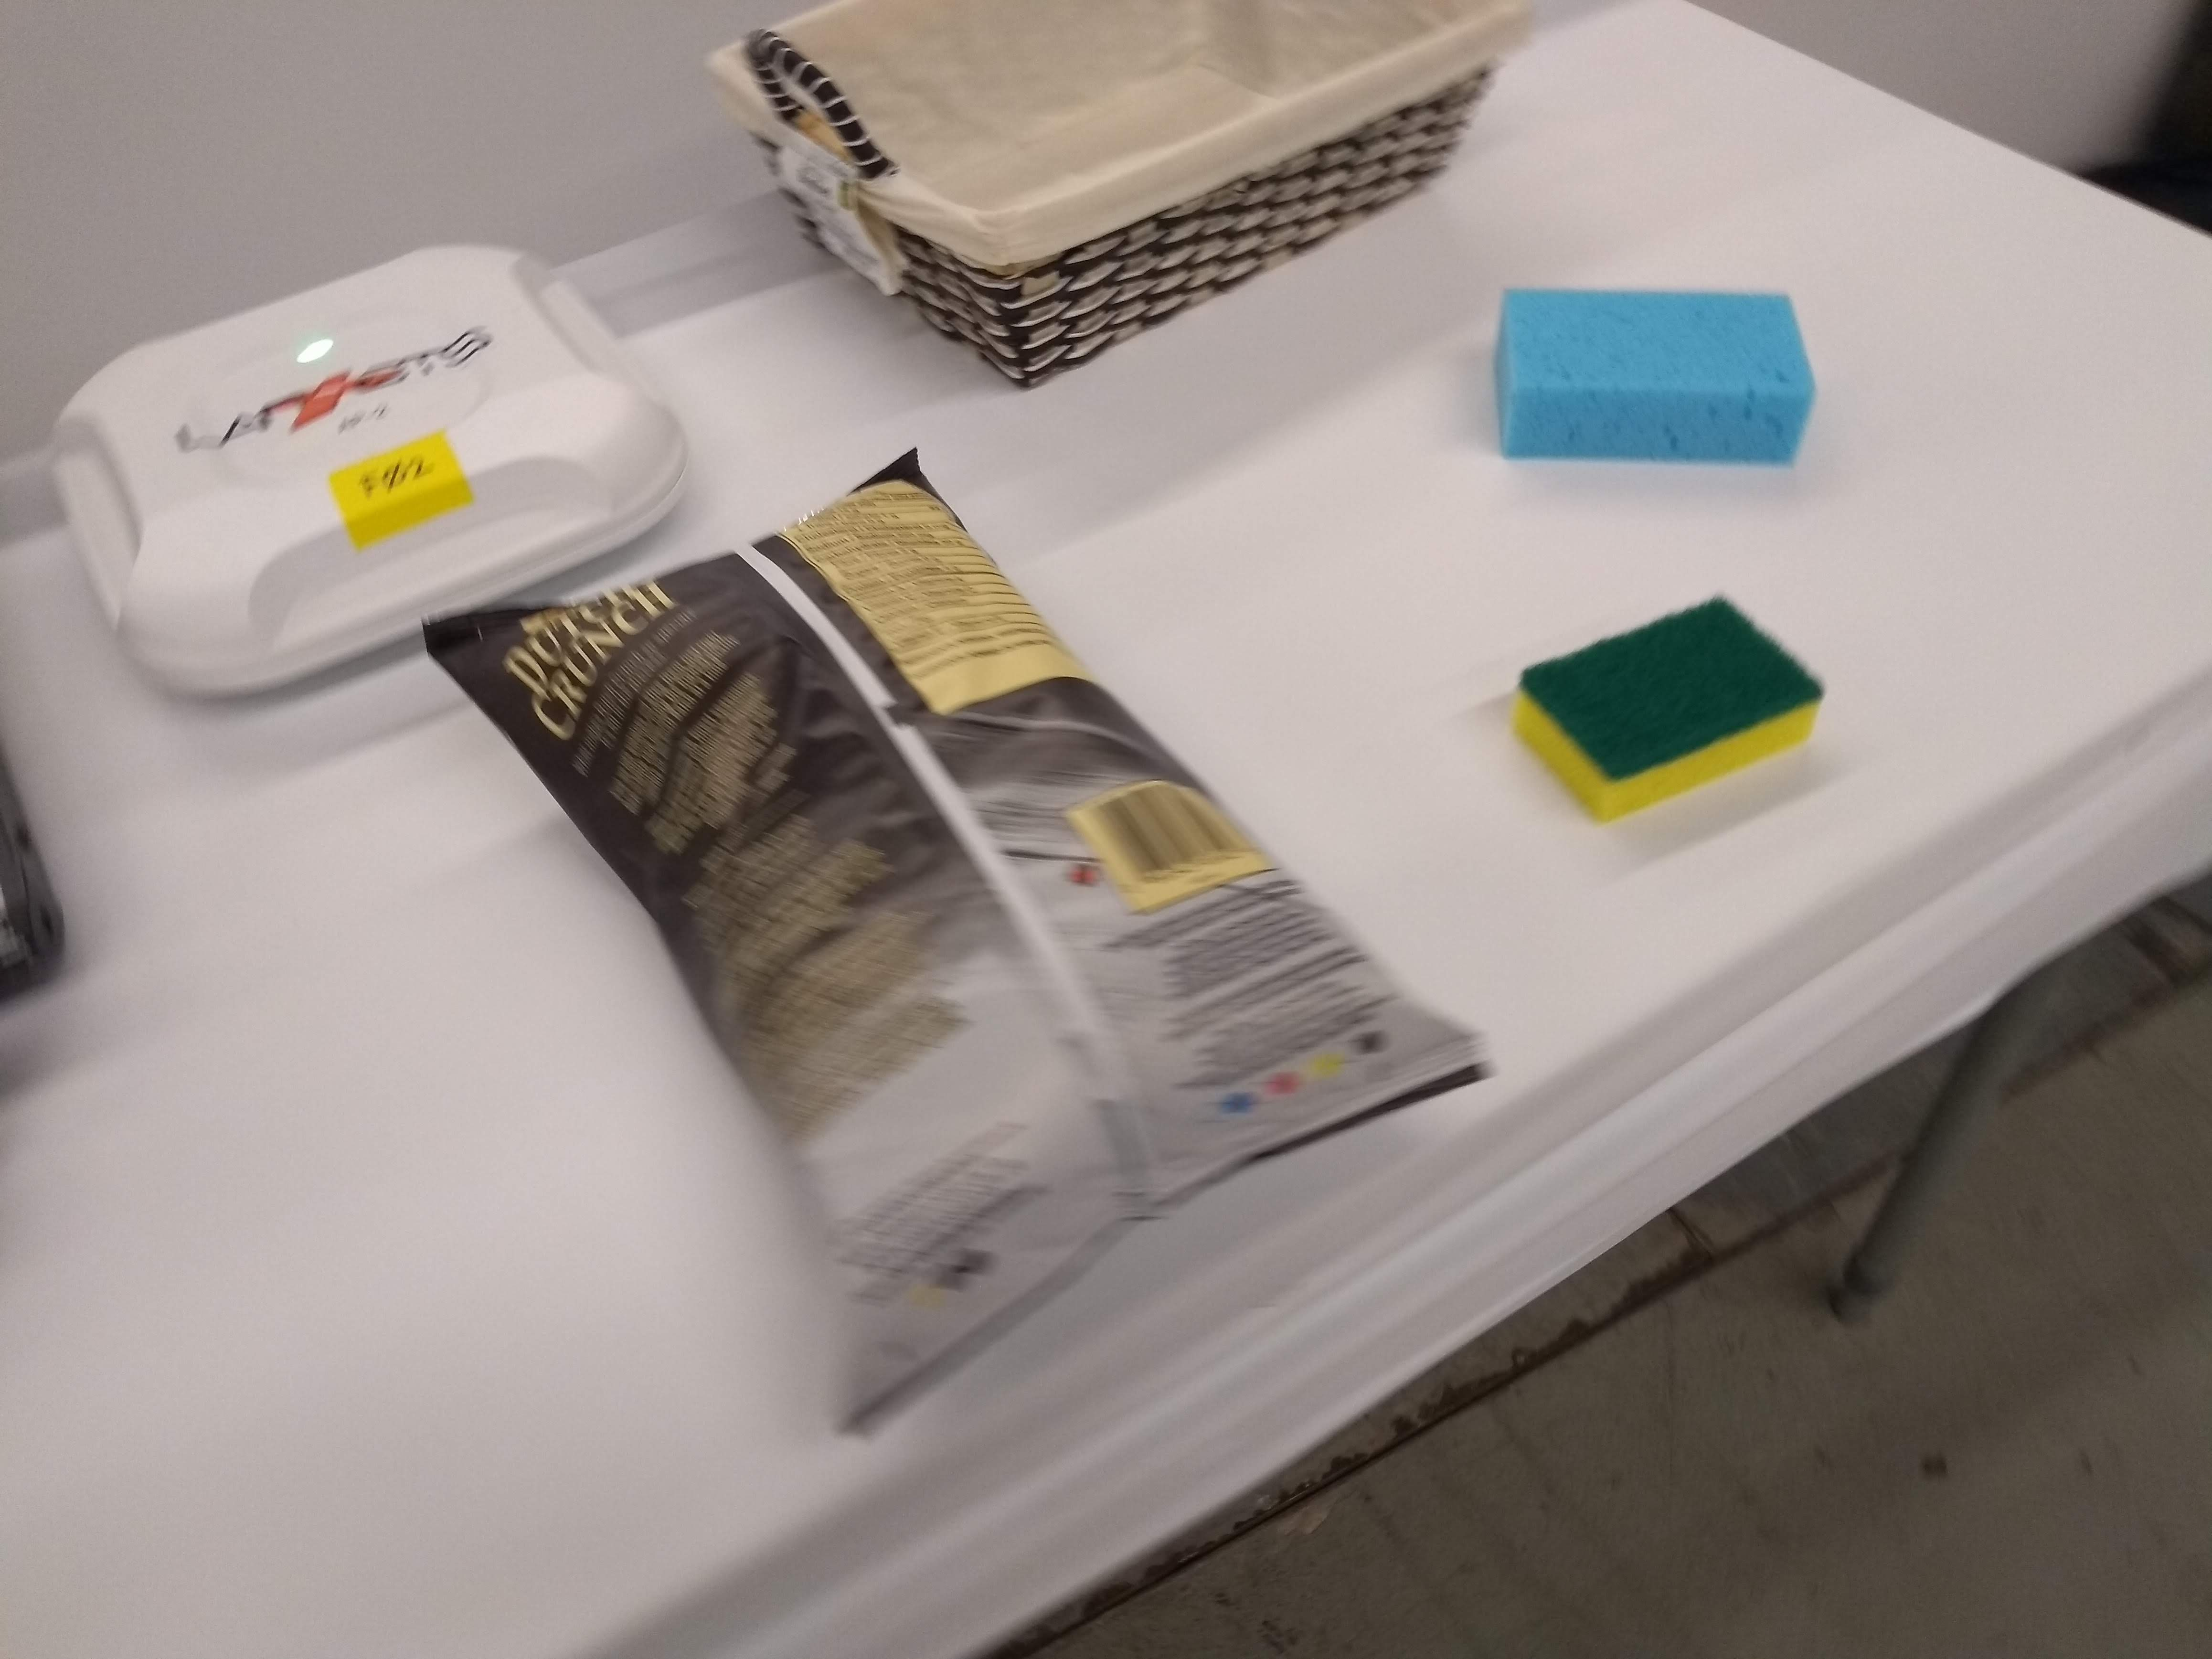potato_chips: (420, 420, 1508, 1448)
scrubby: (1508, 575, 1836, 831)
sponge_opl: (1484, 275, 1824, 476)
